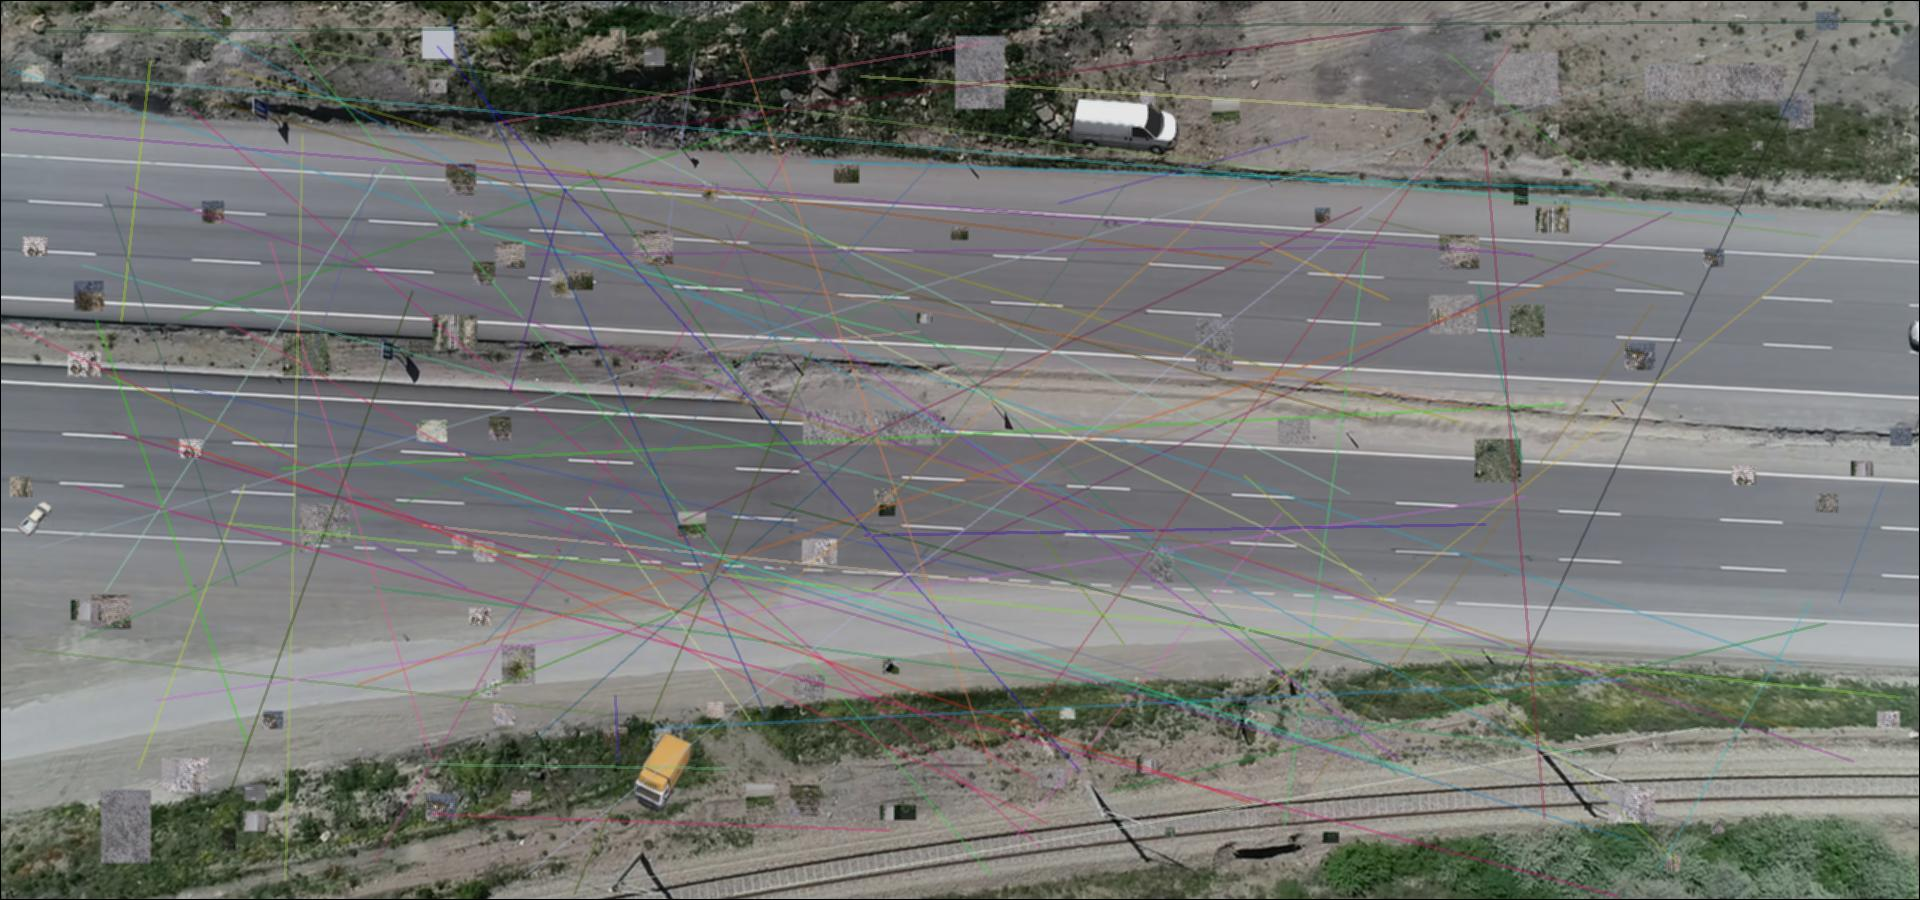arac: (1064, 98, 1182, 159), (633, 731, 694, 813), (17, 501, 54, 538)
